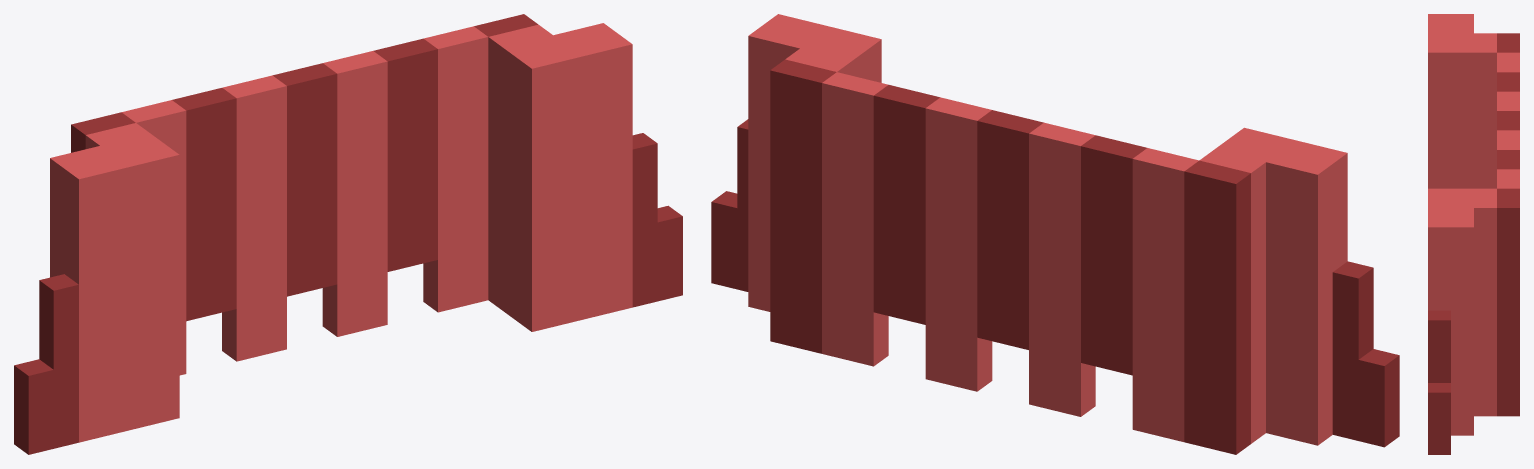
File: thaave.vox-1.fbx
3 renders of one model, left to right at view 1: azimuth 30°, elevation 25°; view 2: azimuth 150°, elevation 25°; view 3: azimuth 270°, elevation 25°, orthographic. The views are drawn at different scales.
Parts seen in each view (by area): view 1: thaave.vox-1; view 2: thaave.vox-1; view 3: thaave.vox-1.
Part boxes in pixels (box(x1,y1,x2,y2)): thaave.vox-1: box(14, 14, 682, 454); thaave.vox-1: box(711, 14, 1399, 454); thaave.vox-1: box(1428, 14, 1519, 454).
Size of the model in its own units: 2.6 by 1 by 0.4.
Materials: 1 (1 with a texture image).
